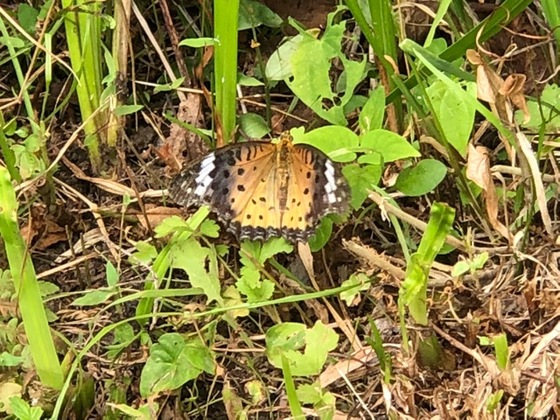Argyreus hyperbius: (157, 96, 355, 241)
butterfly: (159, 98, 357, 243)
